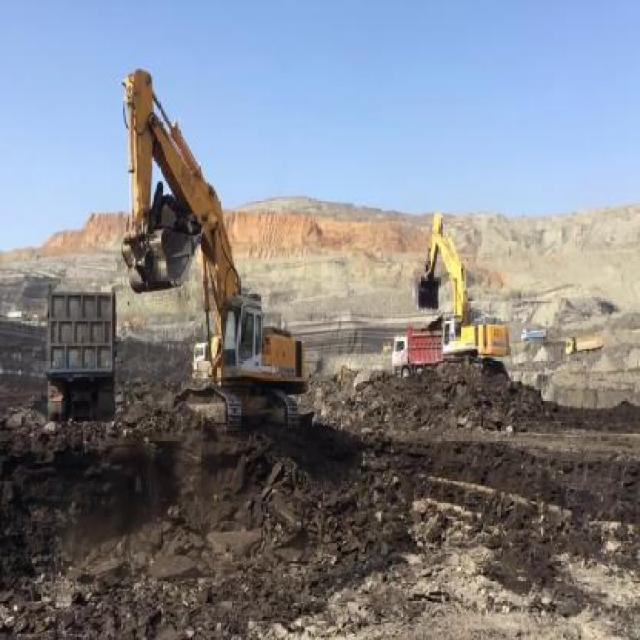Dump Truck: (46, 282, 119, 426), (390, 326, 439, 382), (565, 340, 600, 355), (522, 330, 547, 341)
Excavator: (111, 63, 307, 428), (409, 212, 506, 376)
